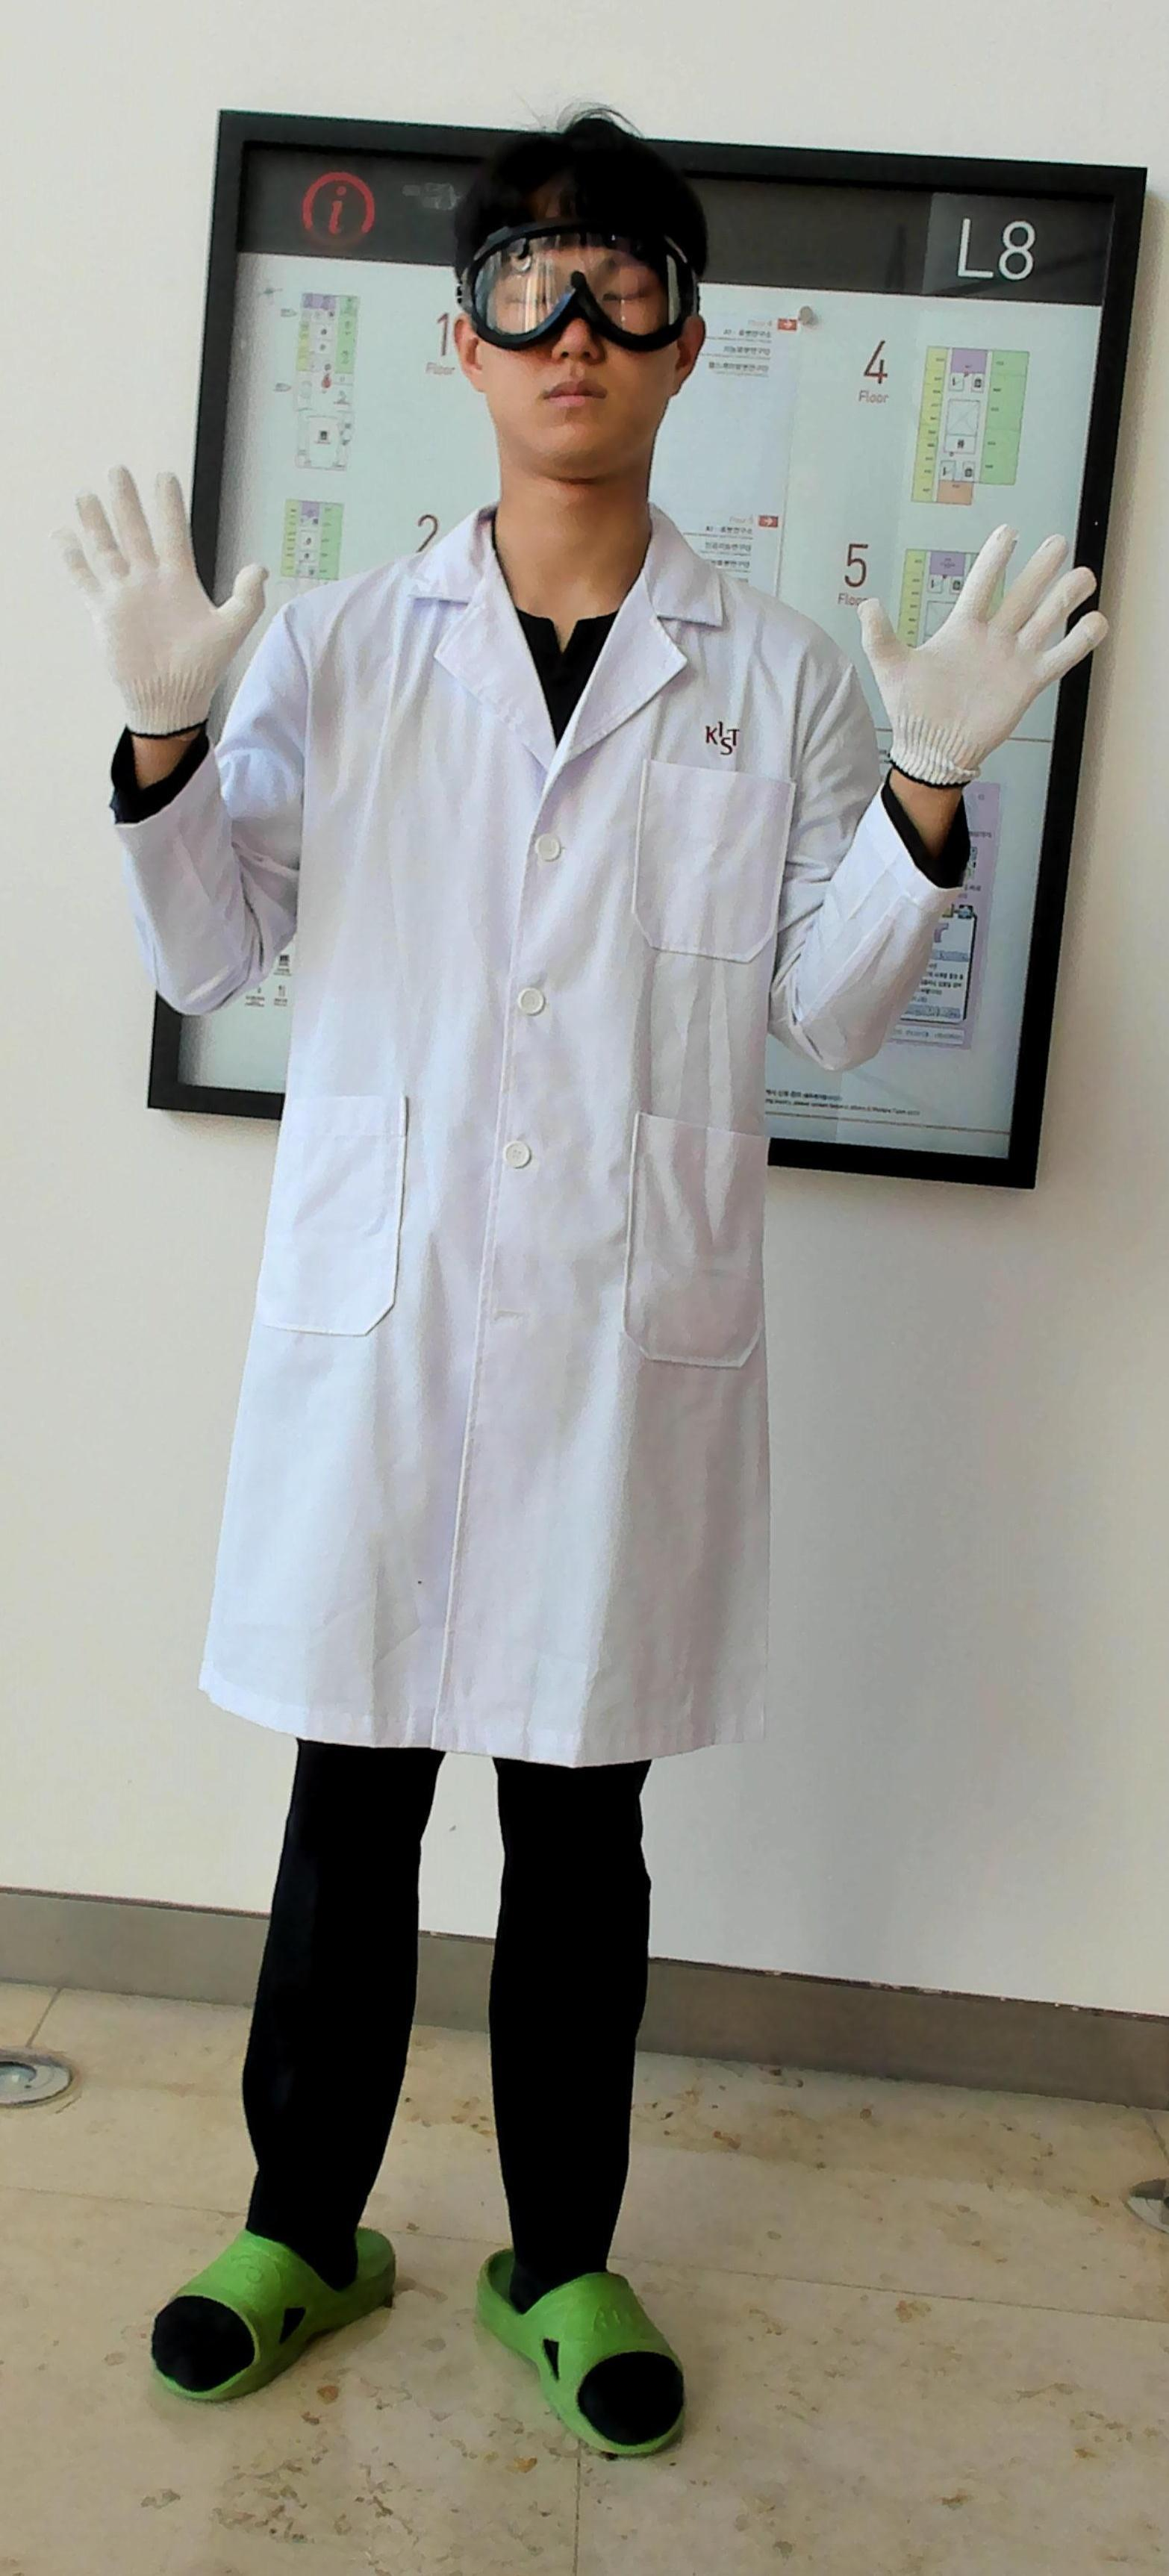lab_coat: (269, 562, 846, 1758)
